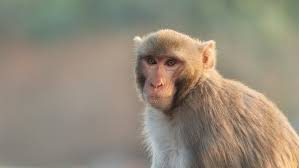monkey: (102, 19, 292, 165)
